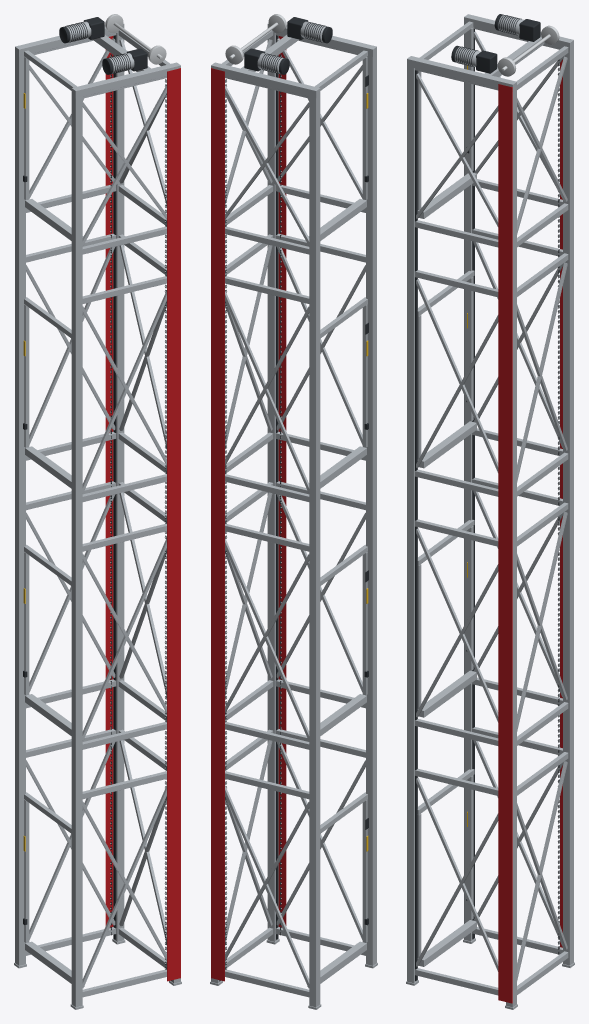
Rendered from SM_PalletLift_Frame4.fbx.
3 views of the same model, side by side, from view 1: azimuth 30°, elevation 25°; view 2: azimuth 150°, elevation 25°; view 3: azimuth 330°, elevation 25° (orthographic).
Parts seen in each view (by area): view 1: SM_PalletLift_Frame4; view 2: SM_PalletLift_Frame4; view 3: SM_PalletLift_Frame4.
Boxes of the visible parts, x1=… form: SM_PalletLift_Frame4: x1=14, y1=14, x2=181, y2=1009; SM_PalletLift_Frame4: x1=210, y1=14, x2=377, y2=1009; SM_PalletLift_Frame4: x1=406, y1=14, x2=574, y2=1009.
Bounding box in the file's own units: 1.8 × 1.81 × 15.1.
